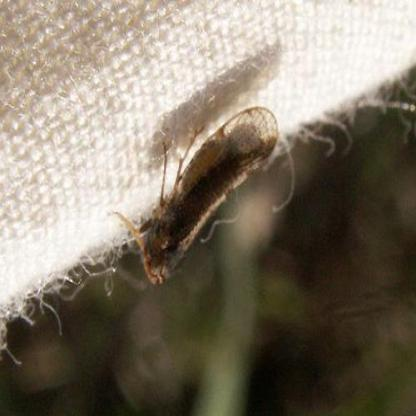brown-planthopper: (134, 106, 280, 286)
